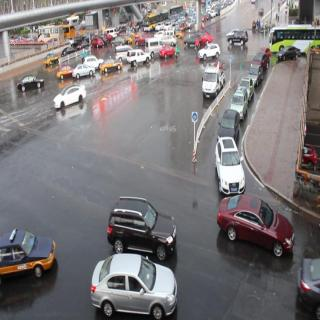BigCar: (268, 24, 320, 50), (142, 14, 155, 35)
Car: (90, 254, 180, 320), (217, 192, 295, 263), (107, 194, 177, 261), (0, 232, 56, 287), (212, 136, 246, 193), (51, 85, 89, 112), (202, 61, 228, 98), (218, 108, 240, 140), (16, 75, 47, 95), (231, 85, 248, 118), (275, 45, 303, 65), (127, 49, 151, 68), (226, 28, 248, 48), (99, 59, 123, 76), (197, 44, 219, 62), (73, 63, 94, 79), (249, 64, 263, 86), (160, 44, 176, 61), (42, 52, 61, 66), (86, 55, 102, 71), (162, 32, 177, 48), (56, 66, 72, 80), (92, 36, 104, 50), (77, 39, 89, 52), (61, 46, 75, 56)
